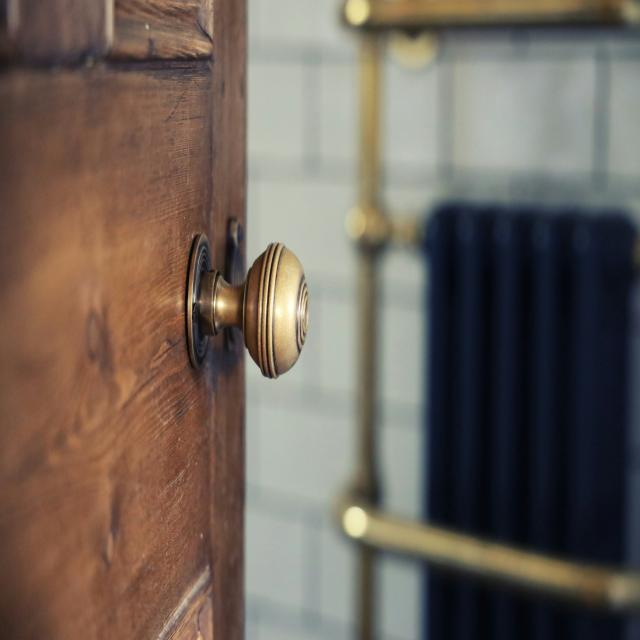door-handle: (188, 236, 309, 379)
